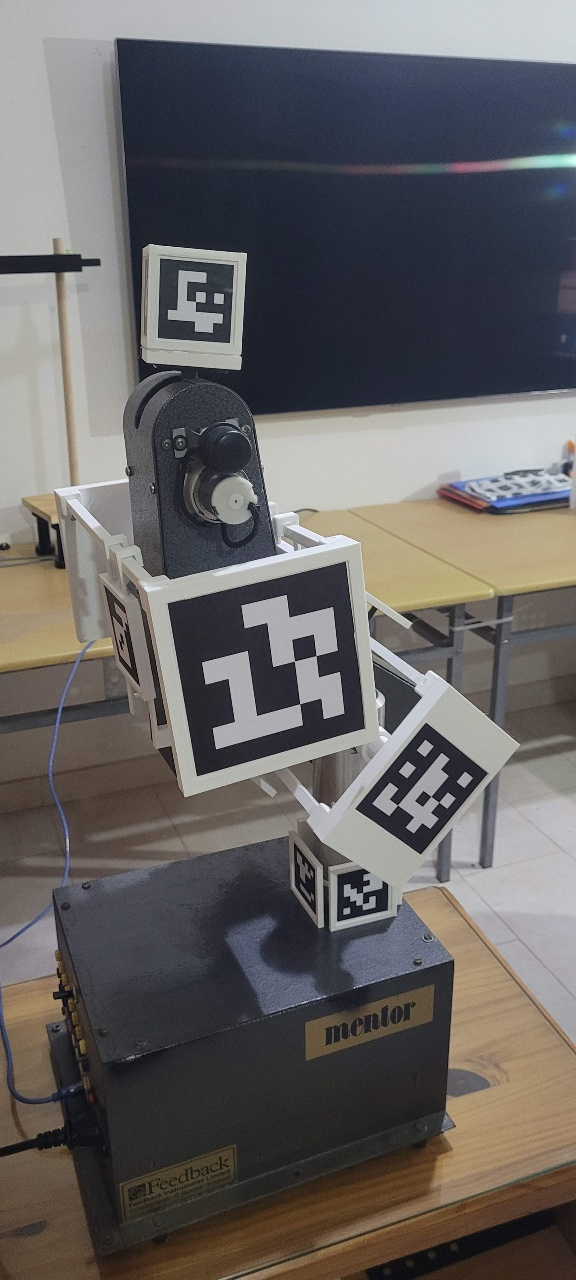Robot: (52, 242, 521, 936)
